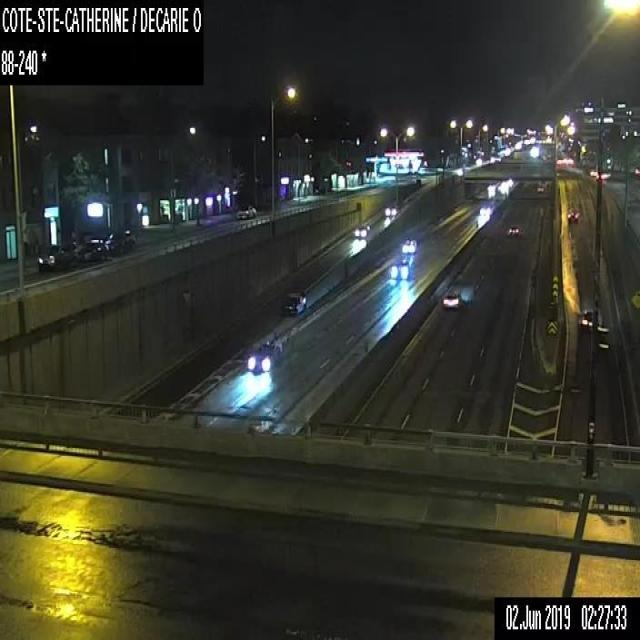vehicle: (246, 342, 281, 372), (36, 246, 75, 272), (74, 238, 107, 264), (105, 229, 136, 253), (280, 290, 305, 314), (579, 309, 602, 333), (390, 259, 409, 279), (442, 287, 460, 308), (236, 204, 256, 219), (401, 238, 416, 253), (353, 224, 369, 236), (566, 210, 578, 222), (384, 204, 396, 216), (507, 223, 519, 233), (536, 185, 544, 191)
